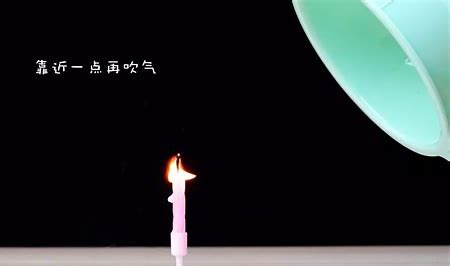Fire: (158, 142, 203, 194)
